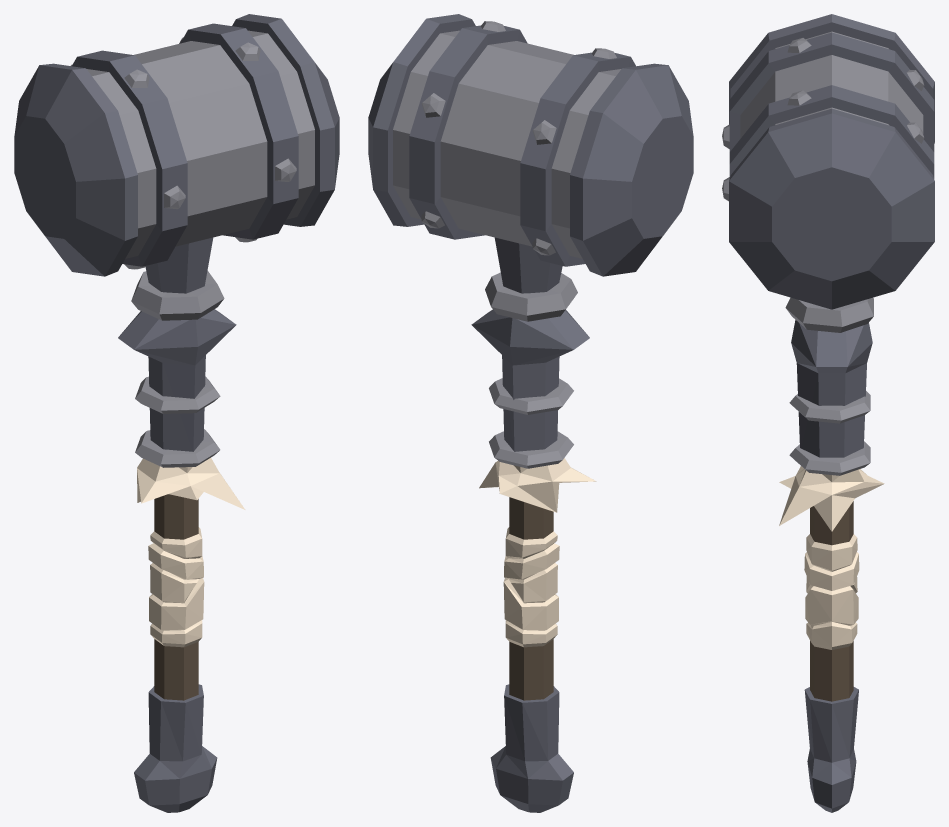
File: _HAMMER_1.fbx
The picture shows the model from 3 angles, left to right: view 1: azimuth 30°, elevation 25°; view 2: azimuth 150°, elevation 25°; view 3: azimuth 270°, elevation 25°; orthographic projection. The views are drawn at different scales.
Parts seen in each view (by area): view 1: HAMMER_1; view 2: HAMMER_1; view 3: HAMMER_1.
Part boxes in pixels (x1=…): HAMMER_1: x1=14, y1=14, x2=339, y2=812; HAMMER_1: x1=368, y1=14, x2=693, y2=812; HAMMER_1: x1=722, y1=14, x2=934, y2=812.
Bounding box in the file's own units: 61.1 × 169 × 43.98.
